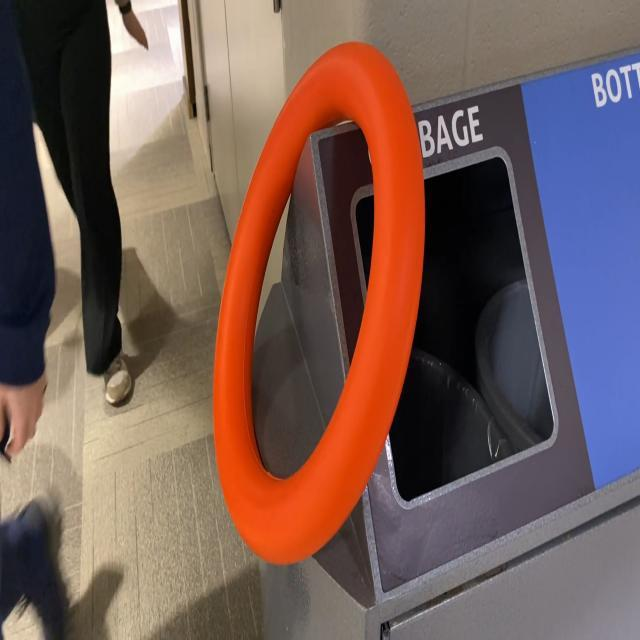note: (210, 39, 424, 567)
